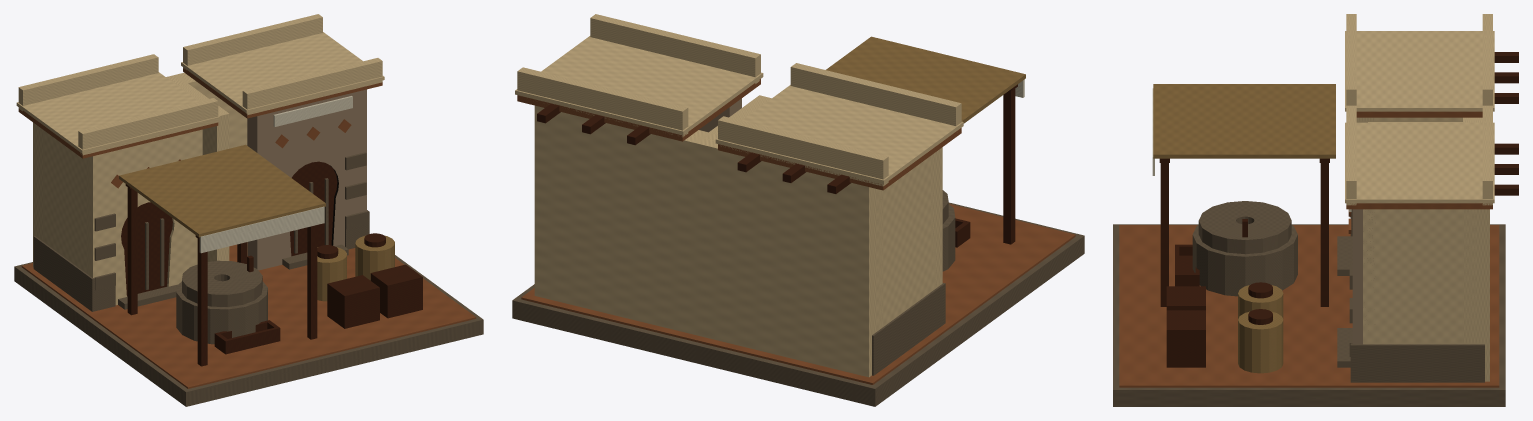
The model's file is Berber_Mill_Age4.fbx.
3 views of the same model, side by side, from view 1: azimuth 30°, elevation 25°; view 2: azimuth 150°, elevation 25°; view 3: azimuth 270°, elevation 25° (orthographic). The views are drawn at different scales.
Visible parts, largest first — view 1: courtyard_floor, woven_shade, courtyard_foundation, store_front.001, store_front, lime_roof_cap, lime_roof_cap.001, store_westwall, roof_front_parapet, roof_front_parapet.001, roof_back_parapet, roof_back_parapet.001 (+21 smaller); view 2: store_backwall, courtyard_foundation, courtyard_floor, lime_roof_cap, lime_roof_cap.001, store_westwall, woven_shade, roof_back_parapet, roof_back_parapet.001, roof_front_parapet, roof_front_parapet.001, corner_stone (+5 smaller); view 3: courtyard_floor, store_eastwall, woven_shade, lime_roof_cap.001, lime_roof_cap, courtyard_foundation, corner_stone.001, millstone_bed, rotary_runner, store_backwall, grain_sack.001, raised_storage_bin.001 (+15 smaller).
Boxes of the visible parts, box(x1,y1,x2,y2) form: courtyard_floor: box(21, 242, 476, 388); woven_shade: box(119, 144, 325, 237); courtyard_foundation: box(14, 255, 483, 406); store_front.001: box(247, 89, 366, 270); store_front: box(88, 129, 202, 305); lime_roof_cap: box(16, 72, 219, 153); lime_roof_cap.001: box(181, 32, 384, 113); store_westwall: box(44, 131, 88, 274); roof_front_parapet: box(78, 98, 218, 155); roof_front_parapet.001: box(242, 58, 382, 115); roof_back_parapet: box(18, 54, 158, 111); roof_back_parapet.001: box(183, 14, 322, 70); store_backwall: box(534, 105, 883, 377); courtyard_foundation: box(512, 202, 1084, 406); courtyard_floor: box(521, 203, 1075, 384); lime_roof_cap: box(715, 85, 963, 184); lime_roof_cap.001: box(515, 36, 763, 135); store_westwall: box(876, 156, 936, 331); woven_shade: box(826, 36, 1025, 123); roof_back_parapet: box(718, 116, 888, 186); roof_back_parapet.001: box(517, 67, 688, 137); roof_front_parapet: box(790, 63, 961, 125); roof_front_parapet.001: box(590, 14, 760, 83); corner_stone: box(872, 283, 945, 375); courtyard_floor: box(1119, 225, 1499, 387); store_eastwall: box(1363, 209, 1476, 344); woven_shade: box(1153, 84, 1335, 158); lime_roof_cap.001: box(1345, 122, 1494, 203); lime_roof_cap: box(1345, 31, 1494, 111); courtyard_foundation: box(1113, 224, 1505, 406); corner_stone.001: box(1350, 343, 1484, 382); millstone_bed: box(1192, 225, 1297, 296); rotary_runner: box(1198, 201, 1291, 254); store_backwall: box(1463, 117, 1489, 381); grain_sack.001: box(1238, 311, 1283, 373); raised_storage_bin.001: box(1166, 310, 1205, 367).
Bounding box in the file's own units: 386 × 242 × 393.
Materials: 6 (6 with a texture image).
